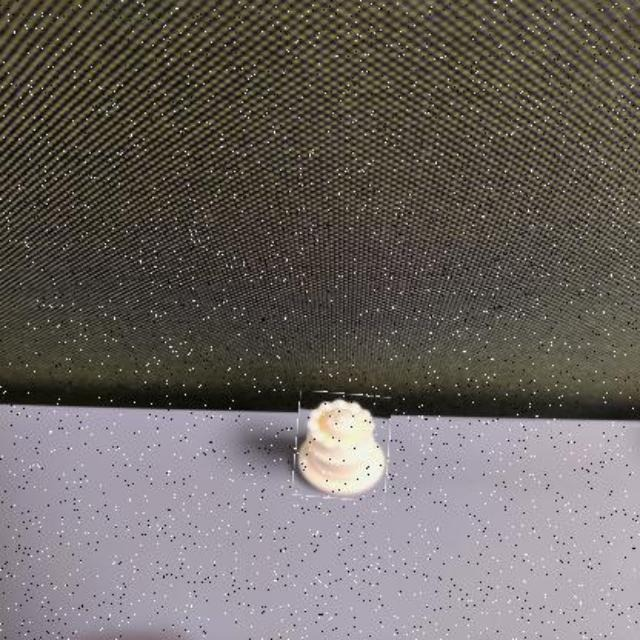white-queen: (294, 392, 389, 499)
